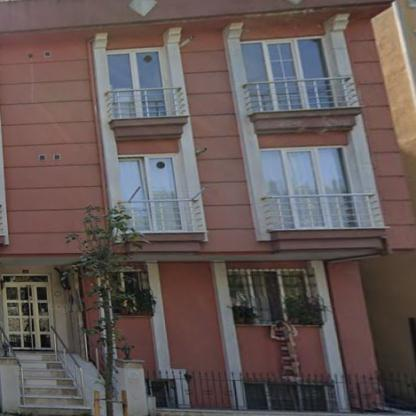door: (2, 278, 50, 349)
window: (263, 146, 354, 226), (245, 39, 332, 115), (226, 270, 316, 322), (120, 155, 180, 231), (108, 49, 167, 118)
